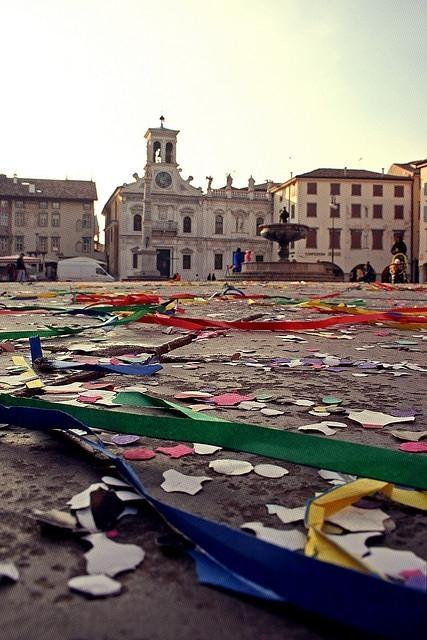truck: (56, 260, 115, 281)
